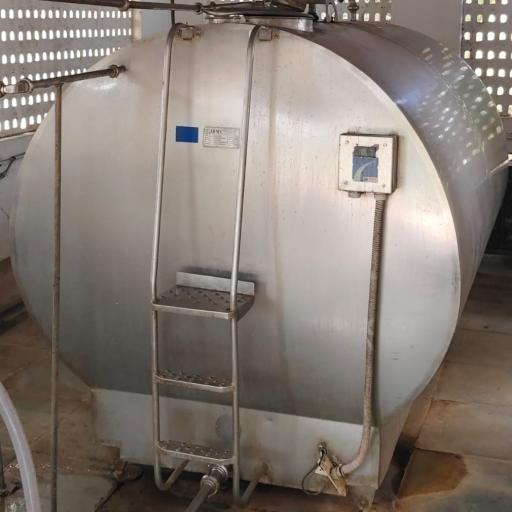silo: (9, 3, 511, 495)
